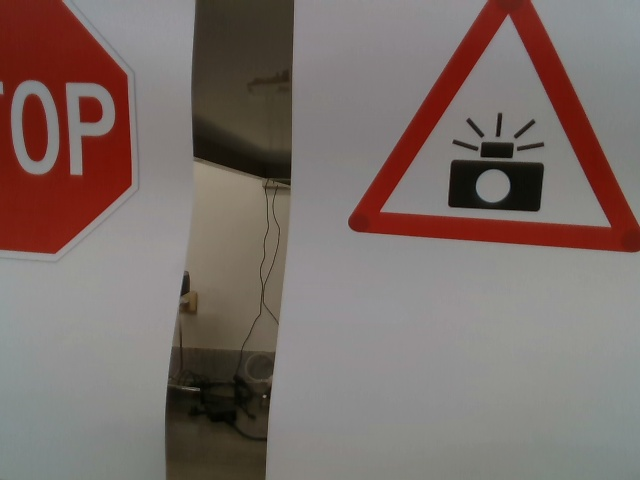camera: (346, 1, 640, 258)
